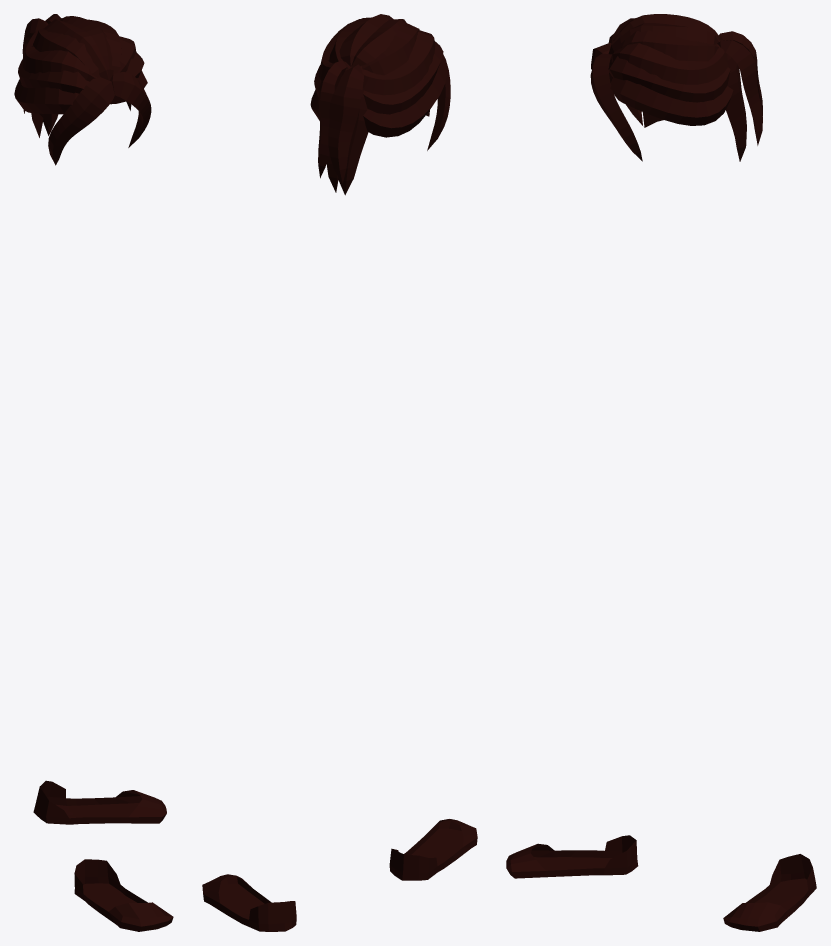
The model's file is Red_001.obj.
3 views of the same model, side by side, from view 1: azimuth 30°, elevation 25°; view 2: azimuth 150°, elevation 25°; view 3: azimuth 270°, elevation 25° (orthographic). The views are drawn at different scales.
Bounding box in the file's own units: 0.3994 × 1.78 × 0.5899.
